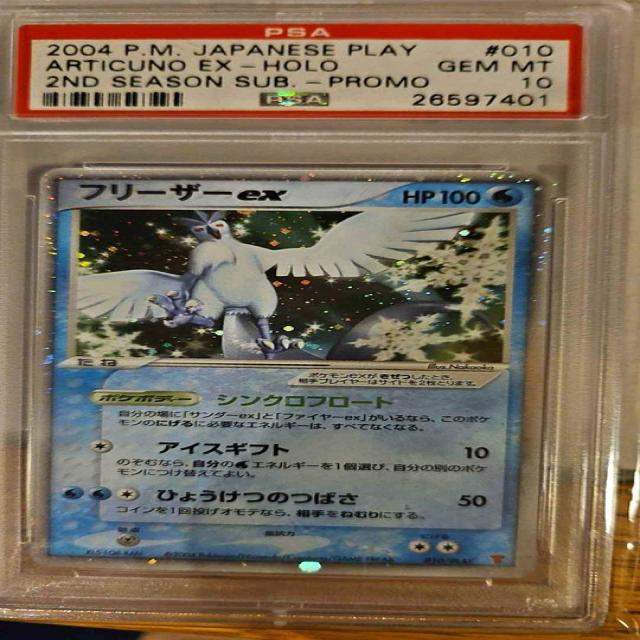card: (28, 167, 558, 579)
